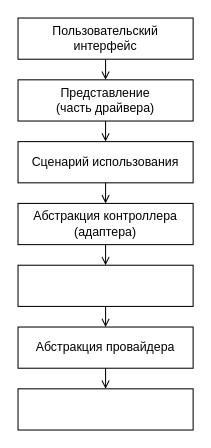
The diagram is 211 pixels wide and 448 high, and some of its shapes have lost their labels. Each missing label, with the box of its shape:
Контроллер (адаптер): (17, 264, 193, 306)
Провайдер: (17, 388, 193, 430)
